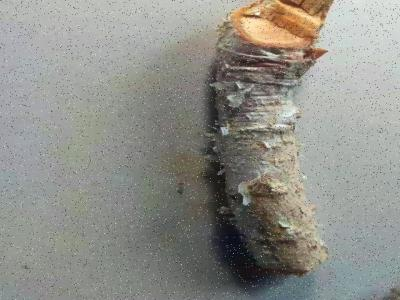Root: (204, 0, 333, 277)
